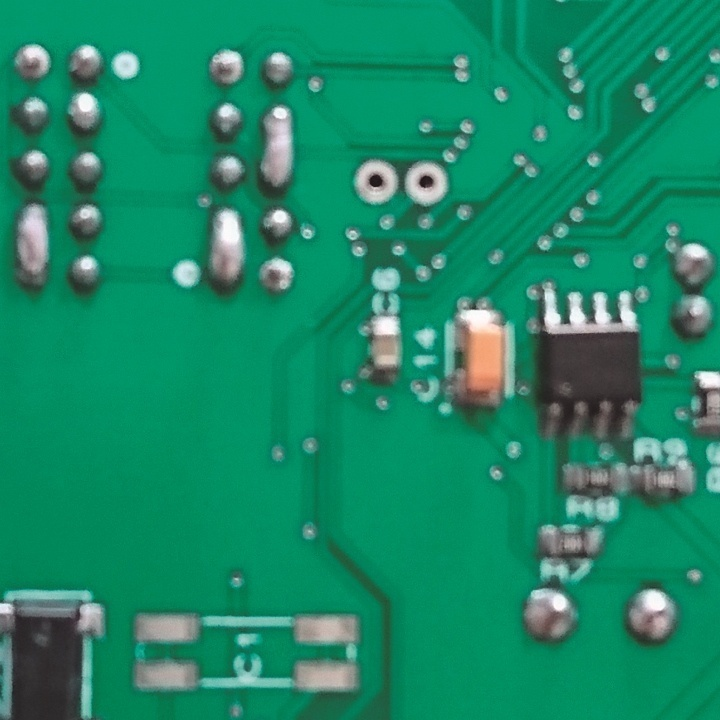F: (402, 156, 450, 208), (353, 155, 399, 207), (208, 46, 249, 91), (259, 255, 298, 295), (14, 43, 51, 82)
P: (261, 102, 299, 196), (16, 201, 53, 292), (210, 206, 244, 288)
